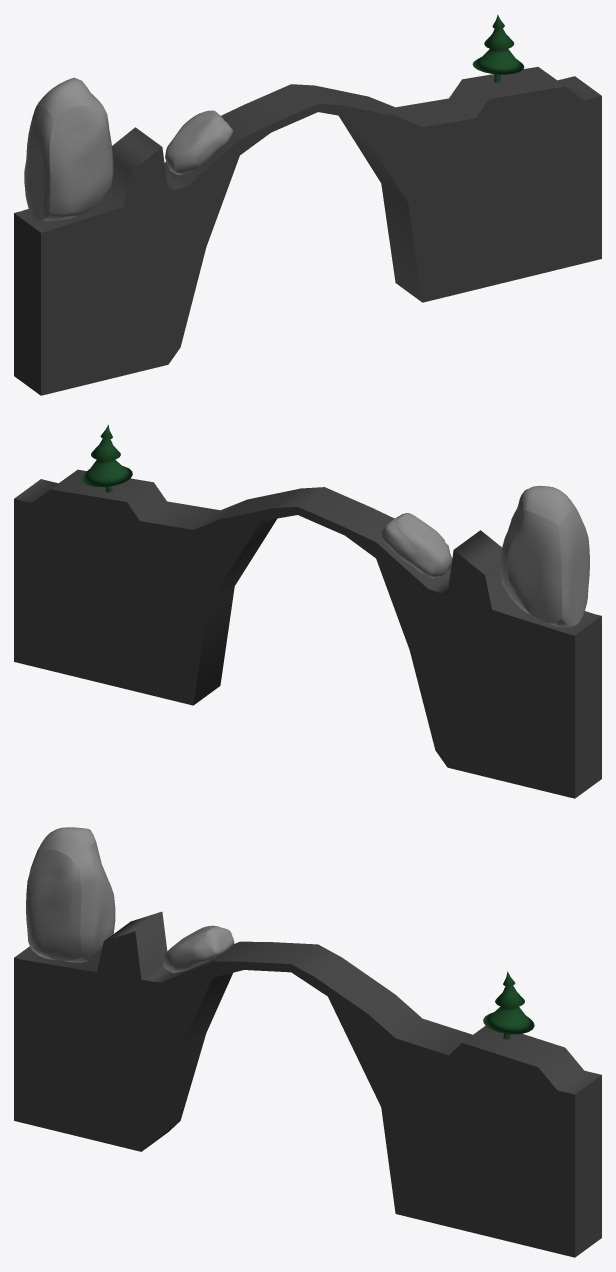
Rendered from Plateau_M_1.fbx.
3 renders of one model, top to bottom at view 1: azimuth 30°, elevation 25°; view 2: azimuth 150°, elevation 25°; view 3: azimuth 330°, elevation 25°, orthographic.
Visible parts, largest first — view 1: pCube1, Cactus:pCube2, Cactus:pCube1, trees:pCylinder2; view 2: pCube1, Cactus:pCube2, Cactus:pCube1, trees:pCylinder2; view 3: pCube1, Cactus:pCube2, Cactus:pCube1, trees:pCylinder2.
Part boxes in pixels (x1,y1,x2,y2): pCube1: (14,67,601,395); Cactus:pCube2: (24,77,113,220); Cactus:pCube1: (165,110,232,174); trees:pCylinder2: (472,14,524,82); pCube1: (14,469,601,798); Cactus:pCube2: (500,485,589,627); Cactus:pCube1: (381,513,452,578); trees:pCylinder2: (81,424,132,492); pCube1: (14,911,601,1257); Cactus:pCube2: (26,827,115,962); Cactus:pCube1: (163,925,234,972); trees:pCylinder2: (483,971,534,1039).
Size of the model in its own units: 36 by 17.9 by 3.9.
